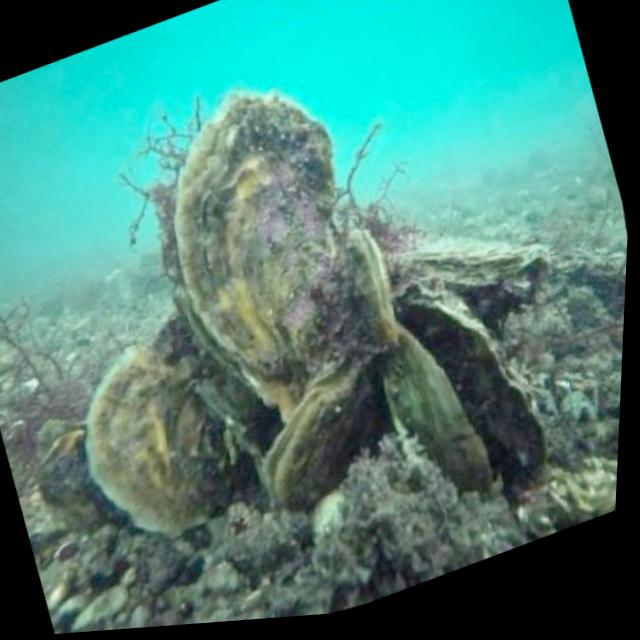Oyster-Closed: (120, 58, 402, 433), (386, 194, 562, 332), (337, 216, 414, 359)
Oyster-Indeterminate: (53, 316, 256, 565)
Oyster-Open: (354, 241, 563, 514), (234, 346, 406, 527)
